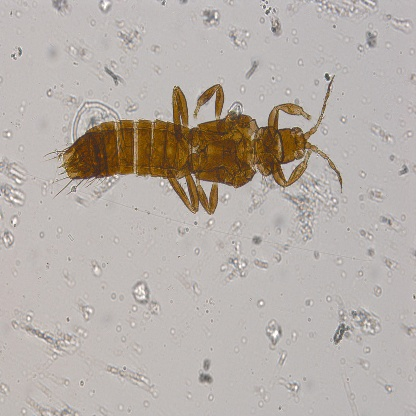Thrips: (64, 82, 317, 216)
